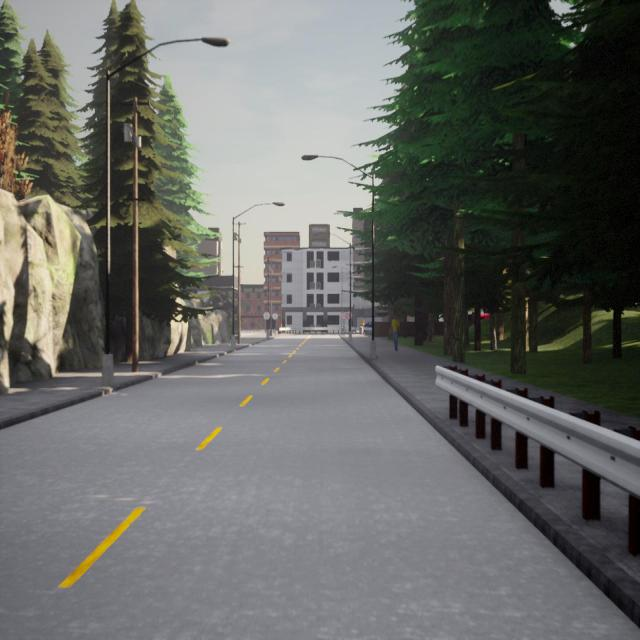Pedestrian: (390, 314, 400, 351)
Traffic_Signs: (262, 312, 270, 320), (272, 312, 278, 321), (346, 311, 352, 319), (341, 312, 346, 320)
Vehicle: (364, 322, 372, 328)
